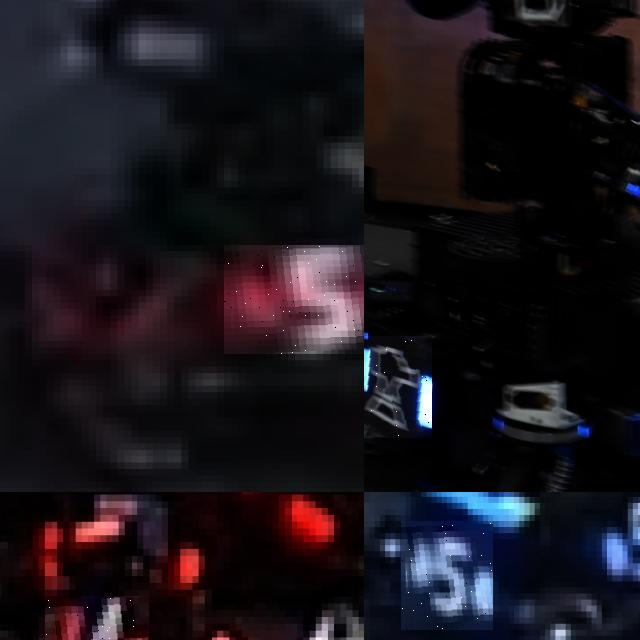B5: (401, 521, 493, 630), (606, 496, 640, 575)
Bs: (364, 335, 432, 438)
R4: (44, 596, 149, 640)
R5: (224, 245, 364, 354)
